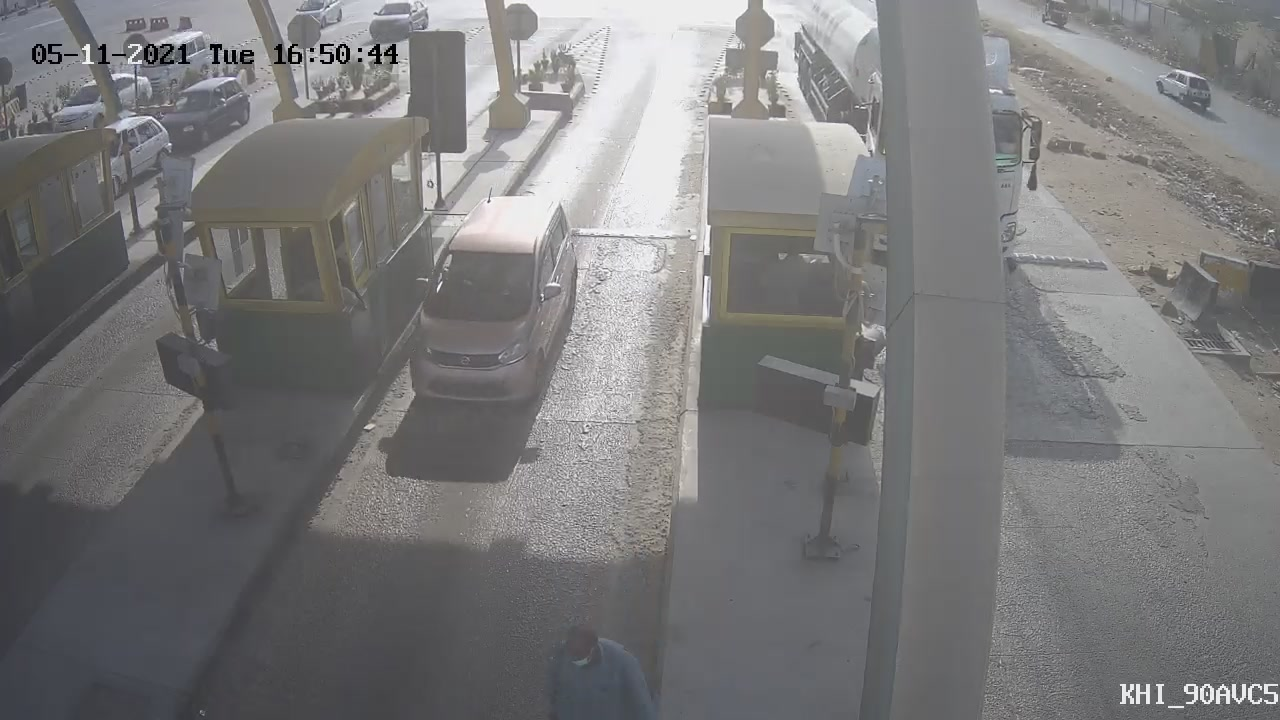F1: (382, 175, 603, 420)
